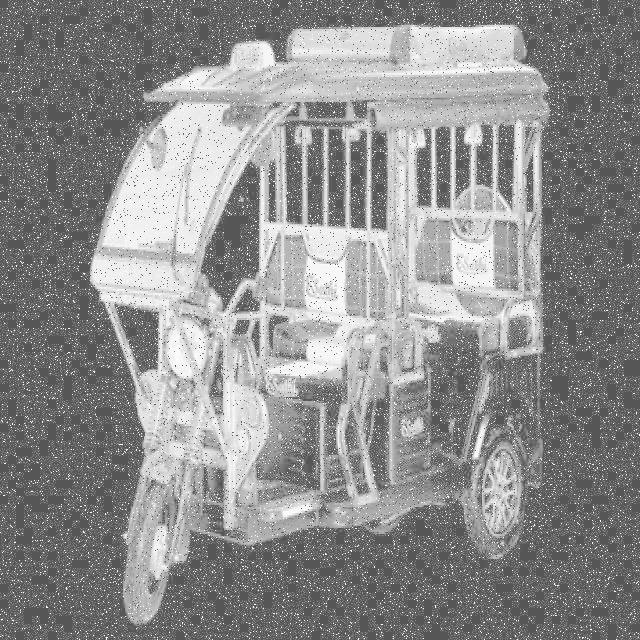Toto: (94, 48, 554, 602)
